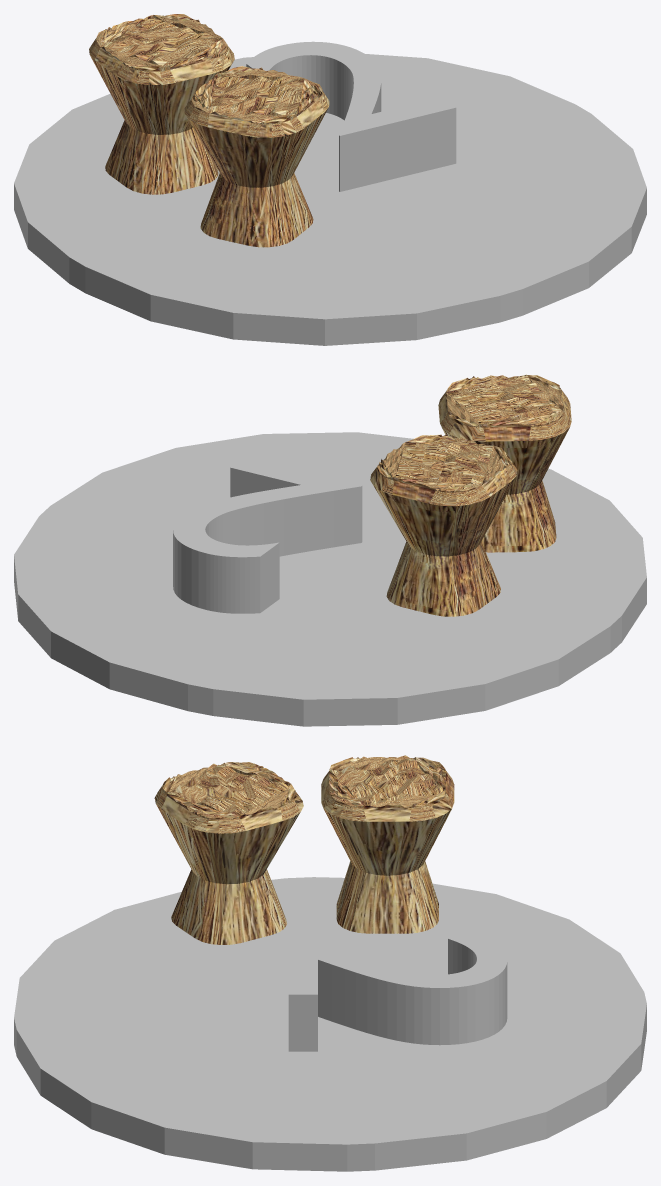
The model's file is Port Wheat.fbx.
3 renders of one model, top to bottom at view 1: azimuth 30°, elevation 25°; view 2: azimuth 150°, elevation 25°; view 3: azimuth 270°, elevation 25°, orthographic.
Visible parts, largest first — view 1: Cube, Cube.002, Cube.001, 2; view 2: Cube, 2, Cube.001, Cube.002; view 3: Cube, Cube.002, 2, Cube.001.
Part boxes in pixels (box(x1,y1,x2,y2)): Cube: box(14, 54, 646, 345); Cube.002: box(184, 66, 329, 247); Cube.001: box(89, 14, 234, 194); 2: box(246, 41, 456, 191); Cube: box(14, 432, 646, 726); 2: box(173, 457, 362, 613); Cube.001: box(370, 434, 517, 616); Cube.002: box(438, 374, 571, 552); Cube: box(14, 877, 646, 1171); Cube.002: box(154, 762, 303, 944); 2: box(288, 937, 507, 1051); Cube.001: box(321, 755, 454, 933).
Bounding box in the file's own units: 200 × 65.89 × 200.
